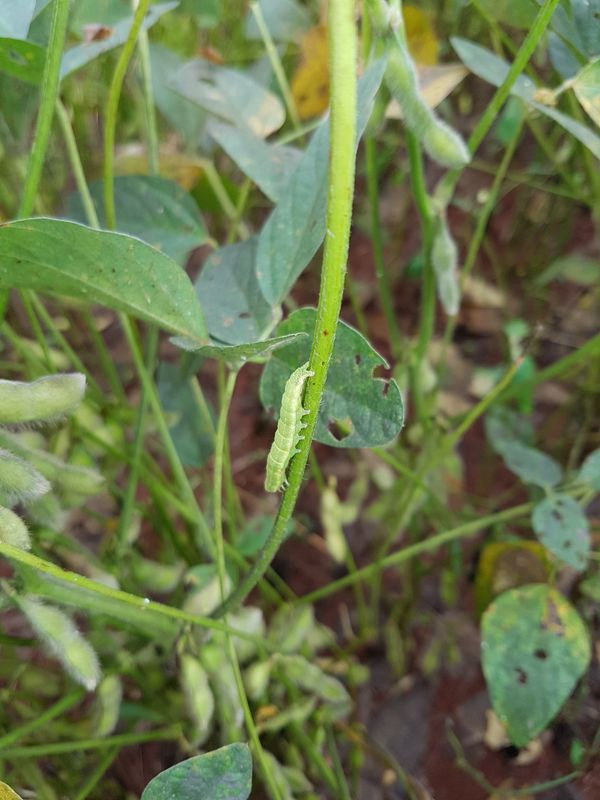Anticarsia_gemmatalis: (245, 350, 345, 505)
